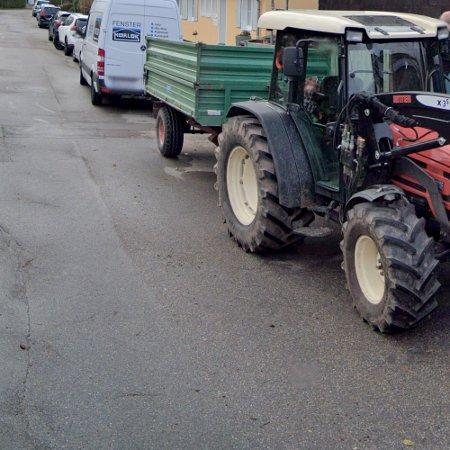tractors: (218, 12, 450, 333)
